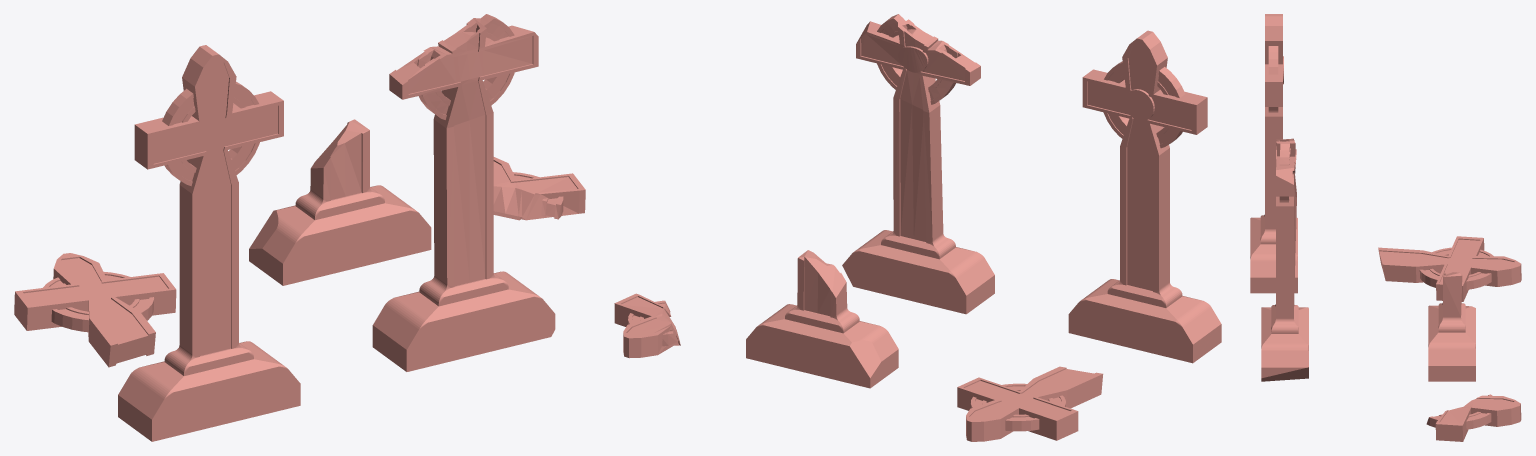
File: Total Assets2.fbx_Headstone01.fbx
3 views of the same model, side by side, from view 1: azimuth 30°, elevation 25°; view 2: azimuth 150°, elevation 25°; view 3: azimuth 270°, elevation 25° (orthographic). The views are drawn at different scales.
Parts seen in each view (by area): view 1: headstones_01_003, headstones_01_002, headstones_01_001, headstones_01; view 2: headstones_01_003, headstones_01_002, headstones_01_001, headstones_01; view 3: headstones_01_001, headstones_01_002, headstones_01_003, headstones_01.
Part boxes in pixels (x1,y1,x2,y2): headstones_01_003: (118, 45, 300, 441); headstones_01_002: (372, 14, 555, 371); headstones_01_001: (249, 119, 585, 285); headstones_01: (14, 253, 176, 367); headstones_01_003: (1068, 30, 1221, 363); headstones_01_002: (842, 14, 994, 314); headstones_01_001: (614, 250, 898, 388); headstones_01: (957, 366, 1103, 441); headstones_01_001: (1426, 272, 1521, 441); headstones_01_002: (1261, 138, 1308, 381); headstones_01_003: (1250, 14, 1297, 293); headstones_01: (1378, 236, 1521, 301).
Bounding box in the file's own units: 342 × 210 × 200.
